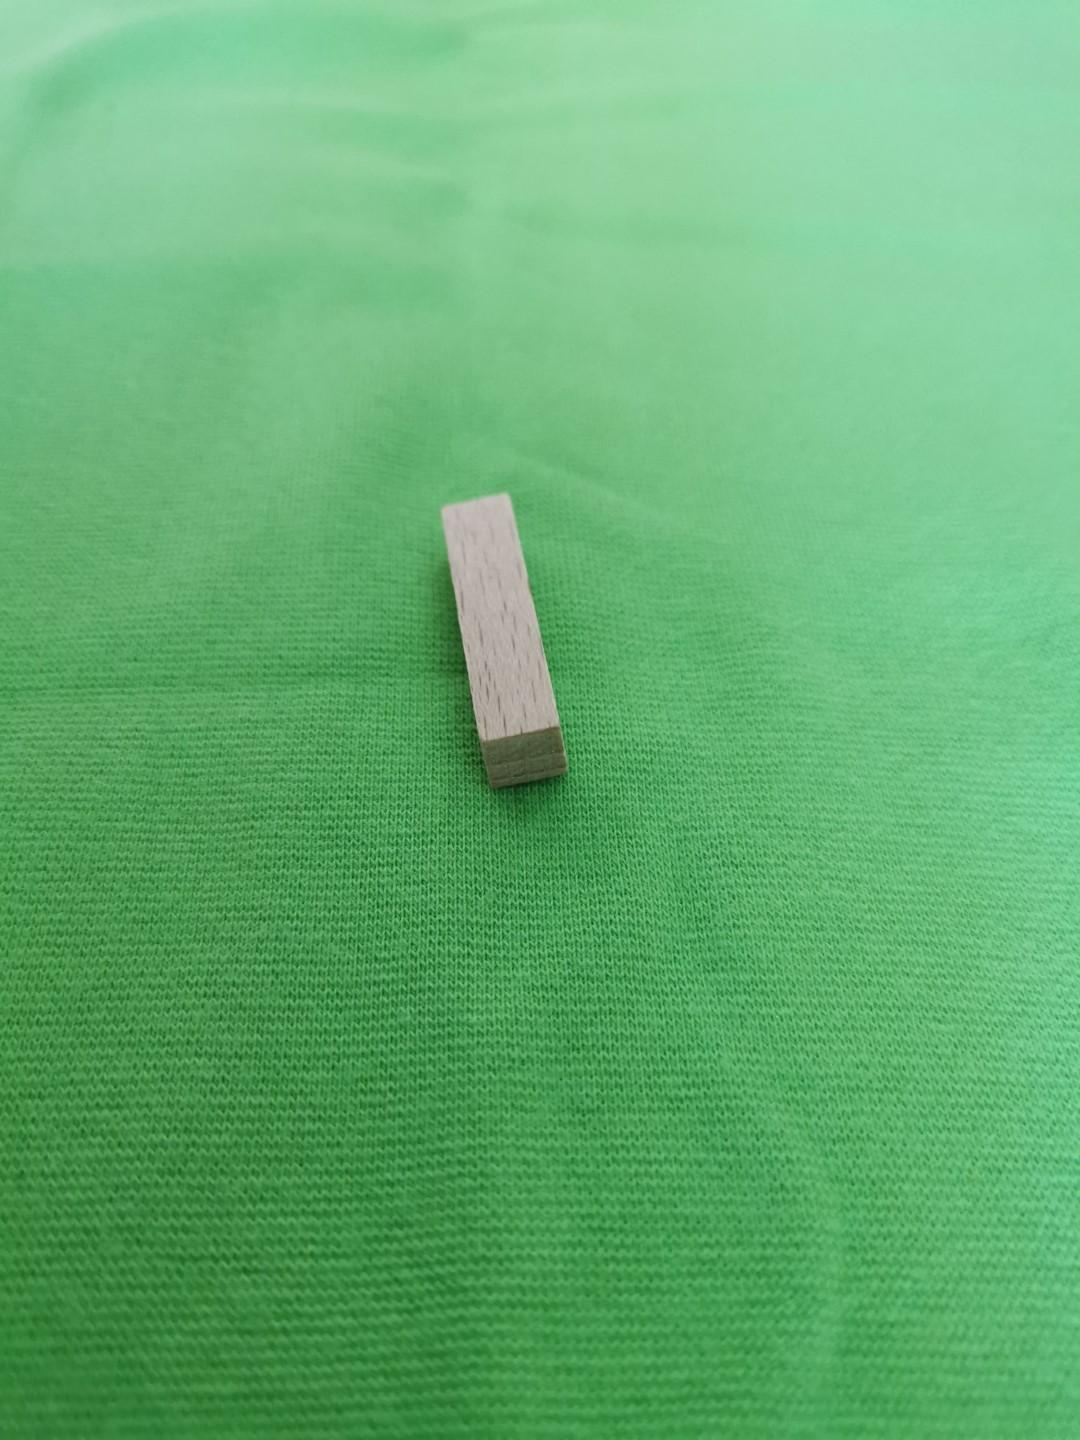jenga: (441, 493, 567, 788)
